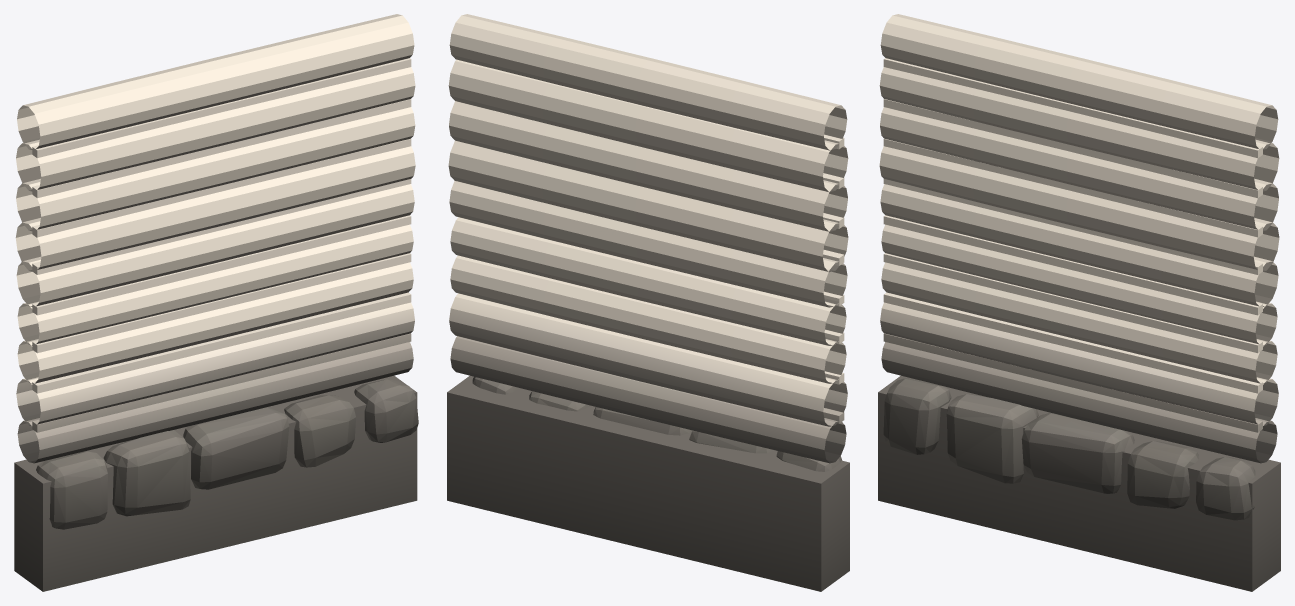
The model's file is SM_VK_Wall_Log.fbx.
3 views of the same model, side by side, from view 1: azimuth 30°, elevation 25°; view 2: azimuth 150°, elevation 25°; view 3: azimuth 330°, elevation 25° (orthographic).
Visible parts, largest first — view 1: SM_VK_Wall_Log.001; view 2: SM_VK_Wall_Log.001; view 3: SM_VK_Wall_Log.001.
Part boxes in pixels (<box>): SM_VK_Wall_Log.001: <box>14,14,418,591</box>; SM_VK_Wall_Log.001: <box>447,14,849,591</box>; SM_VK_Wall_Log.001: <box>878,14,1280,591</box>.
Size of the model in its own units: 3 by 3.64 by 0.5318.
